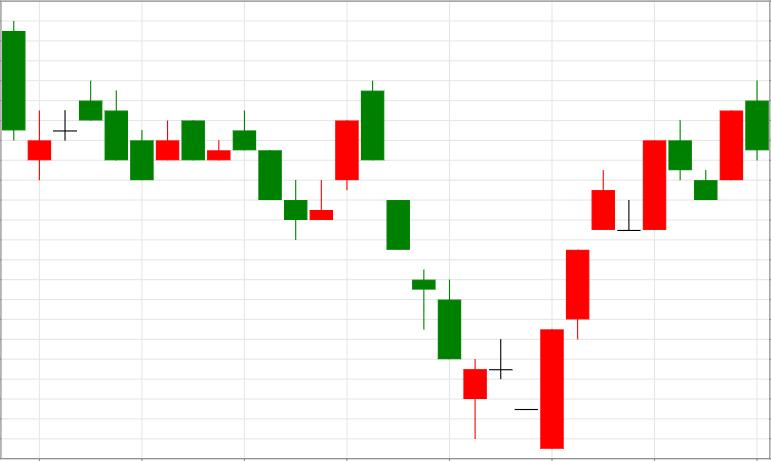three_white_soldiers_rise: (361, 80, 615, 449)
